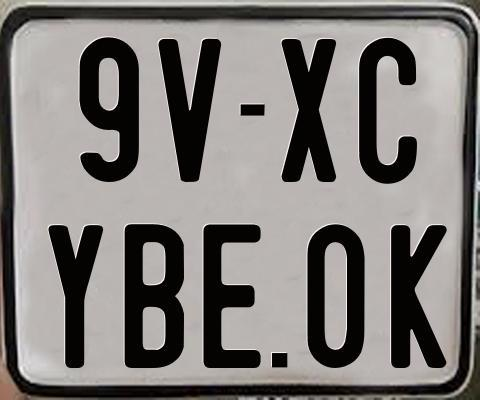0: (304, 223, 365, 371)
9: (77, 37, 139, 186)
B: (124, 223, 187, 367)
C: (357, 37, 421, 184)
E: (203, 222, 262, 366)
K: (389, 223, 450, 370)
V: (156, 38, 219, 181)
X: (280, 38, 334, 185)
Y: (48, 223, 105, 371)
